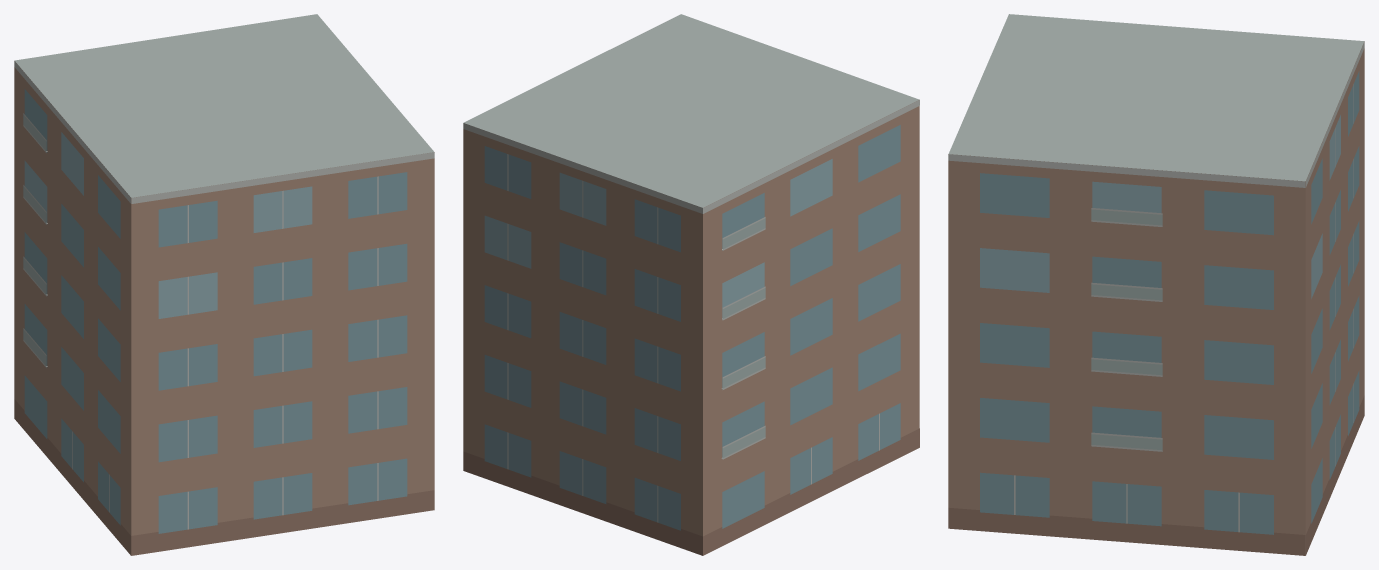
The model's file is survey-upis-32887521.glb.
3 views of the same model, side by side, from view 1: azimuth 30°, elevation 25°; view 2: azimuth 150°, elevation 25°; view 3: azimuth 270°, elevation 25° (orthographic). The views are drawn at different scales.
Visible parts, largest first — view 1: survey-upis-32887521.tmp; view 2: survey-upis-32887521.tmp; view 3: survey-upis-32887521.tmp.
Part boxes in pixels (<box>): survey-upis-32887521.tmp: <box>14,14,434,555</box>; survey-upis-32887521.tmp: <box>463,14,919,555</box>; survey-upis-32887521.tmp: <box>948,14,1364,555</box>.
Size of the model in its own units: 13.23 by 13.8 by 13.9.
